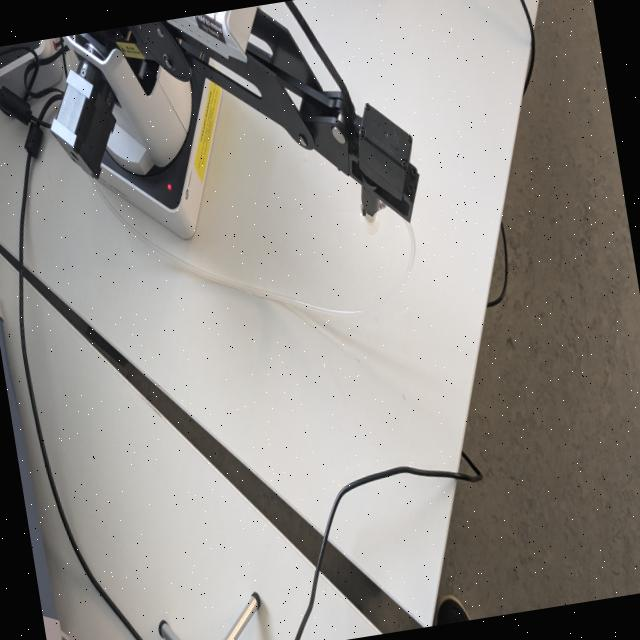Robot-end-effector-HF8z: (336, 92, 430, 238)
